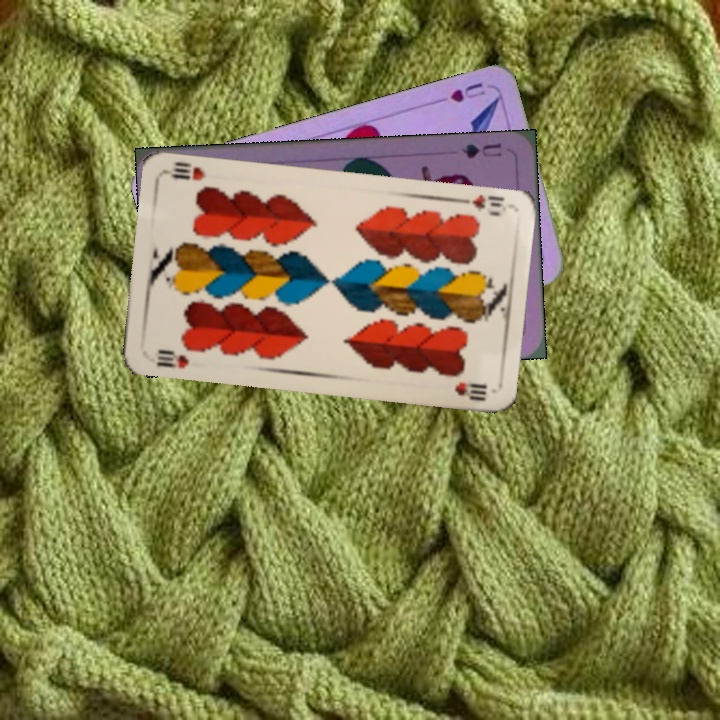GU: (457, 139, 504, 161)
H10: (453, 191, 507, 219), (152, 345, 192, 371)
HU: (433, 78, 488, 106)
